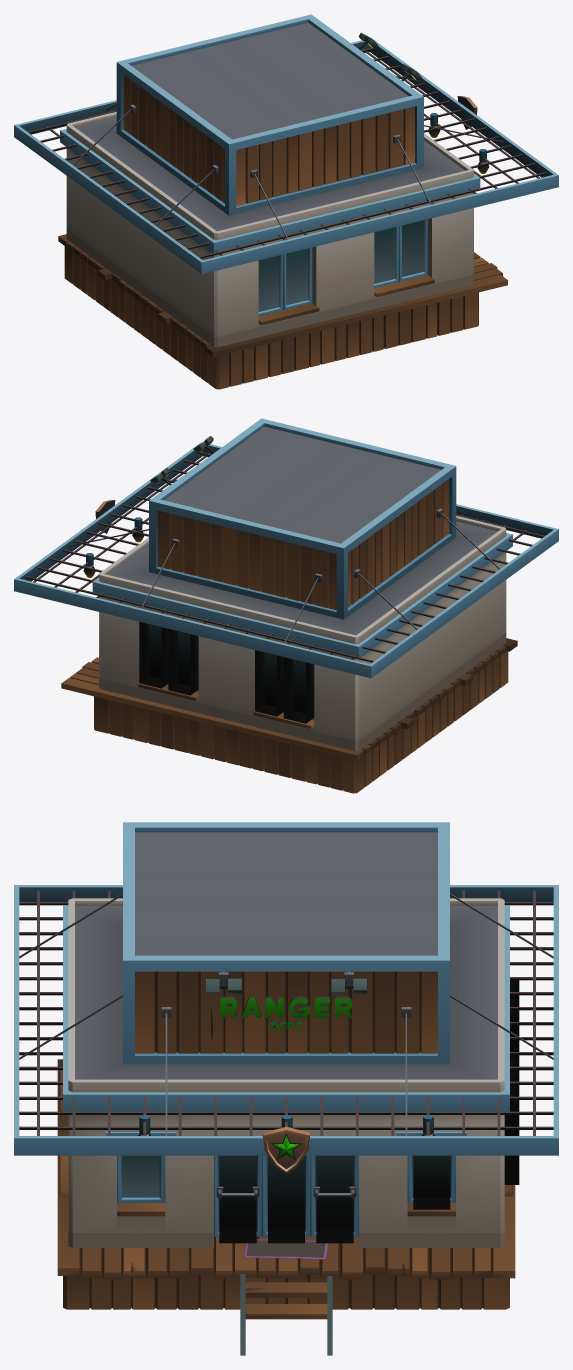
Rendered from Ranger_Station_1A.fbx.
3 renders of one model, top to bottom at view 1: azimuth 30°, elevation 25°; view 2: azimuth 150°, elevation 25°; view 3: azimuth 270°, elevation 25°, orthographic. The views are drawn at different scales.
Parts seen in each view (by area): view 1: Ranger_Station_1A; view 2: Ranger_Station_1A, Ranger_Station_1A_Lights; view 3: Ranger_Station_1A, Ranger_Station_1A_Lights.
Part boxes in pixels (x1=…): Ranger_Station_1A: x1=14, y1=14, x2=558, y2=389; Ranger_Station_1A: x1=14, y1=418, x2=558, y2=793; Ranger_Station_1A_Lights: x1=83, y1=442, x2=314, y2=723; Ranger_Station_1A: x1=14, y1=822, x2=558, y2=1355; Ranger_Station_1A_Lights: x1=138, y1=980, x2=519, y2=1243.
Size of the model in its own units: 1118 by 655 by 1000.
